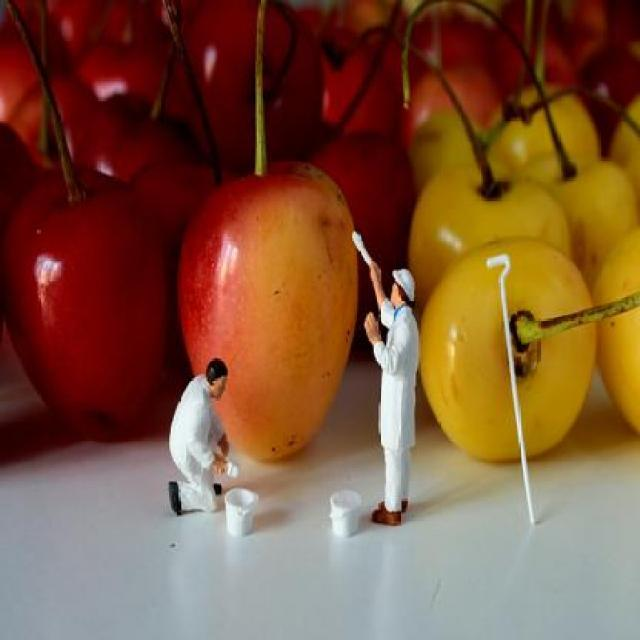Apple pie: (174, 153, 372, 455)
